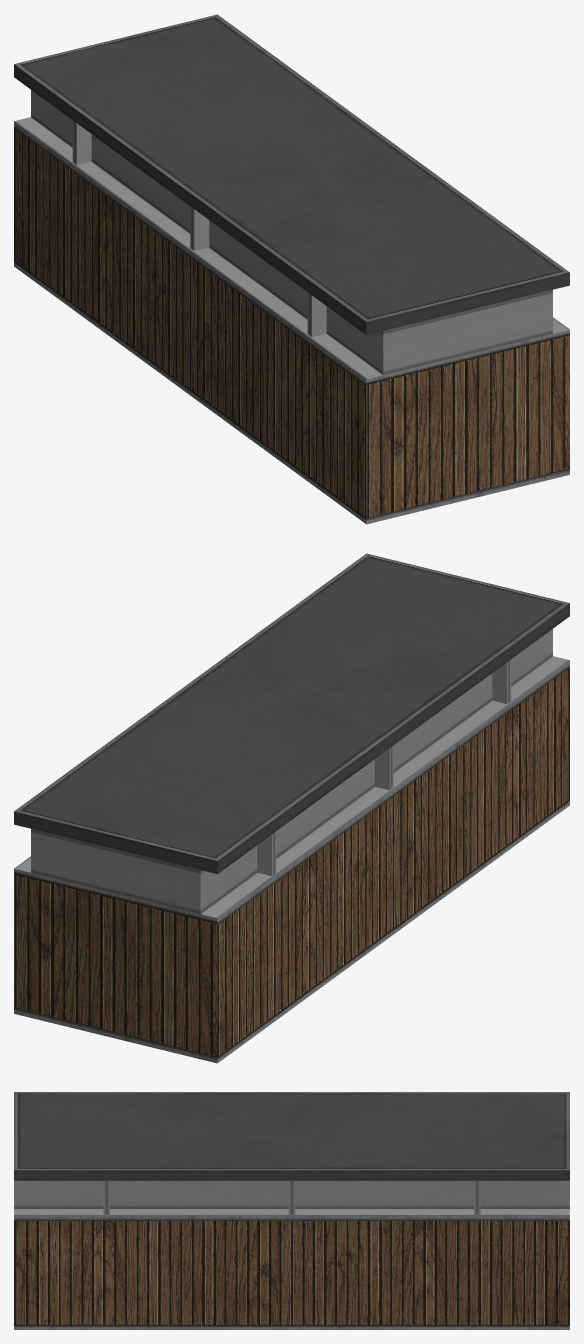
File: HH_Information_Desk_Module_3m.fbx
The picture shows the model from 3 angles, top to bottom: view 1: azimuth 30°, elevation 25°; view 2: azimuth 150°, elevation 25°; view 3: azimuth 270°, elevation 25°; orthographic projection. The views are drawn at different scales.
Visible parts, largest first — view 1: HH_Information_Desk_Module_3m; view 2: HH_Information_Desk_Module_3m; view 3: HH_Information_Desk_Module_3m.
Part boxes in pixels (x1,y1,x2,y2): HH_Information_Desk_Module_3m: (14,14,569,524); HH_Information_Desk_Module_3m: (14,553,569,1063); HH_Information_Desk_Module_3m: (14,1092,569,1329).
Bounding box in the file's own units: 100 × 95 × 300.
